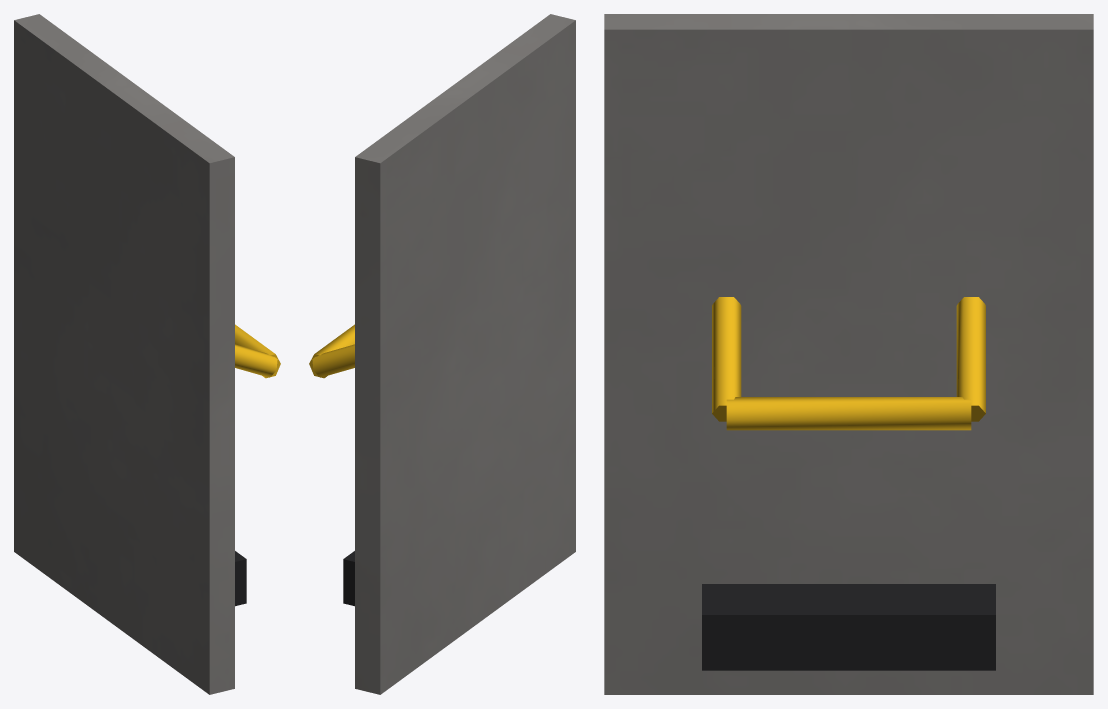
File: struct03_ladder_handrail_foot_restraint.glb
3 renders of one model, left to right at view 1: azimuth 30°, elevation 25°; view 2: azimuth 150°, elevation 25°; view 3: azimuth 270°, elevation 25°, orthographic. The views are drawn at different scales.
Visible parts, largest first — view 1: plate, toe_loops, heel_clips; view 2: plate, toe_loops, heel_clips; view 3: plate, heel_clips, toe_loops.
Part boxes in pixels (bbox=[...]): plate: bbox=[14, 14, 234, 694]; toe_loops: bbox=[235, 324, 280, 378]; heel_clips: bbox=[235, 551, 246, 606]; plate: bbox=[355, 14, 575, 694]; toe_loops: bbox=[309, 324, 354, 378]; heel_clips: bbox=[343, 551, 354, 606]; plate: bbox=[604, 14, 1093, 694]; heel_clips: bbox=[702, 584, 995, 670]; toe_loops: bbox=[712, 297, 985, 430].
Bounding box in the file's own units: 0.142 × 0.6 × 0.4.
3 materials, 1 textured.
